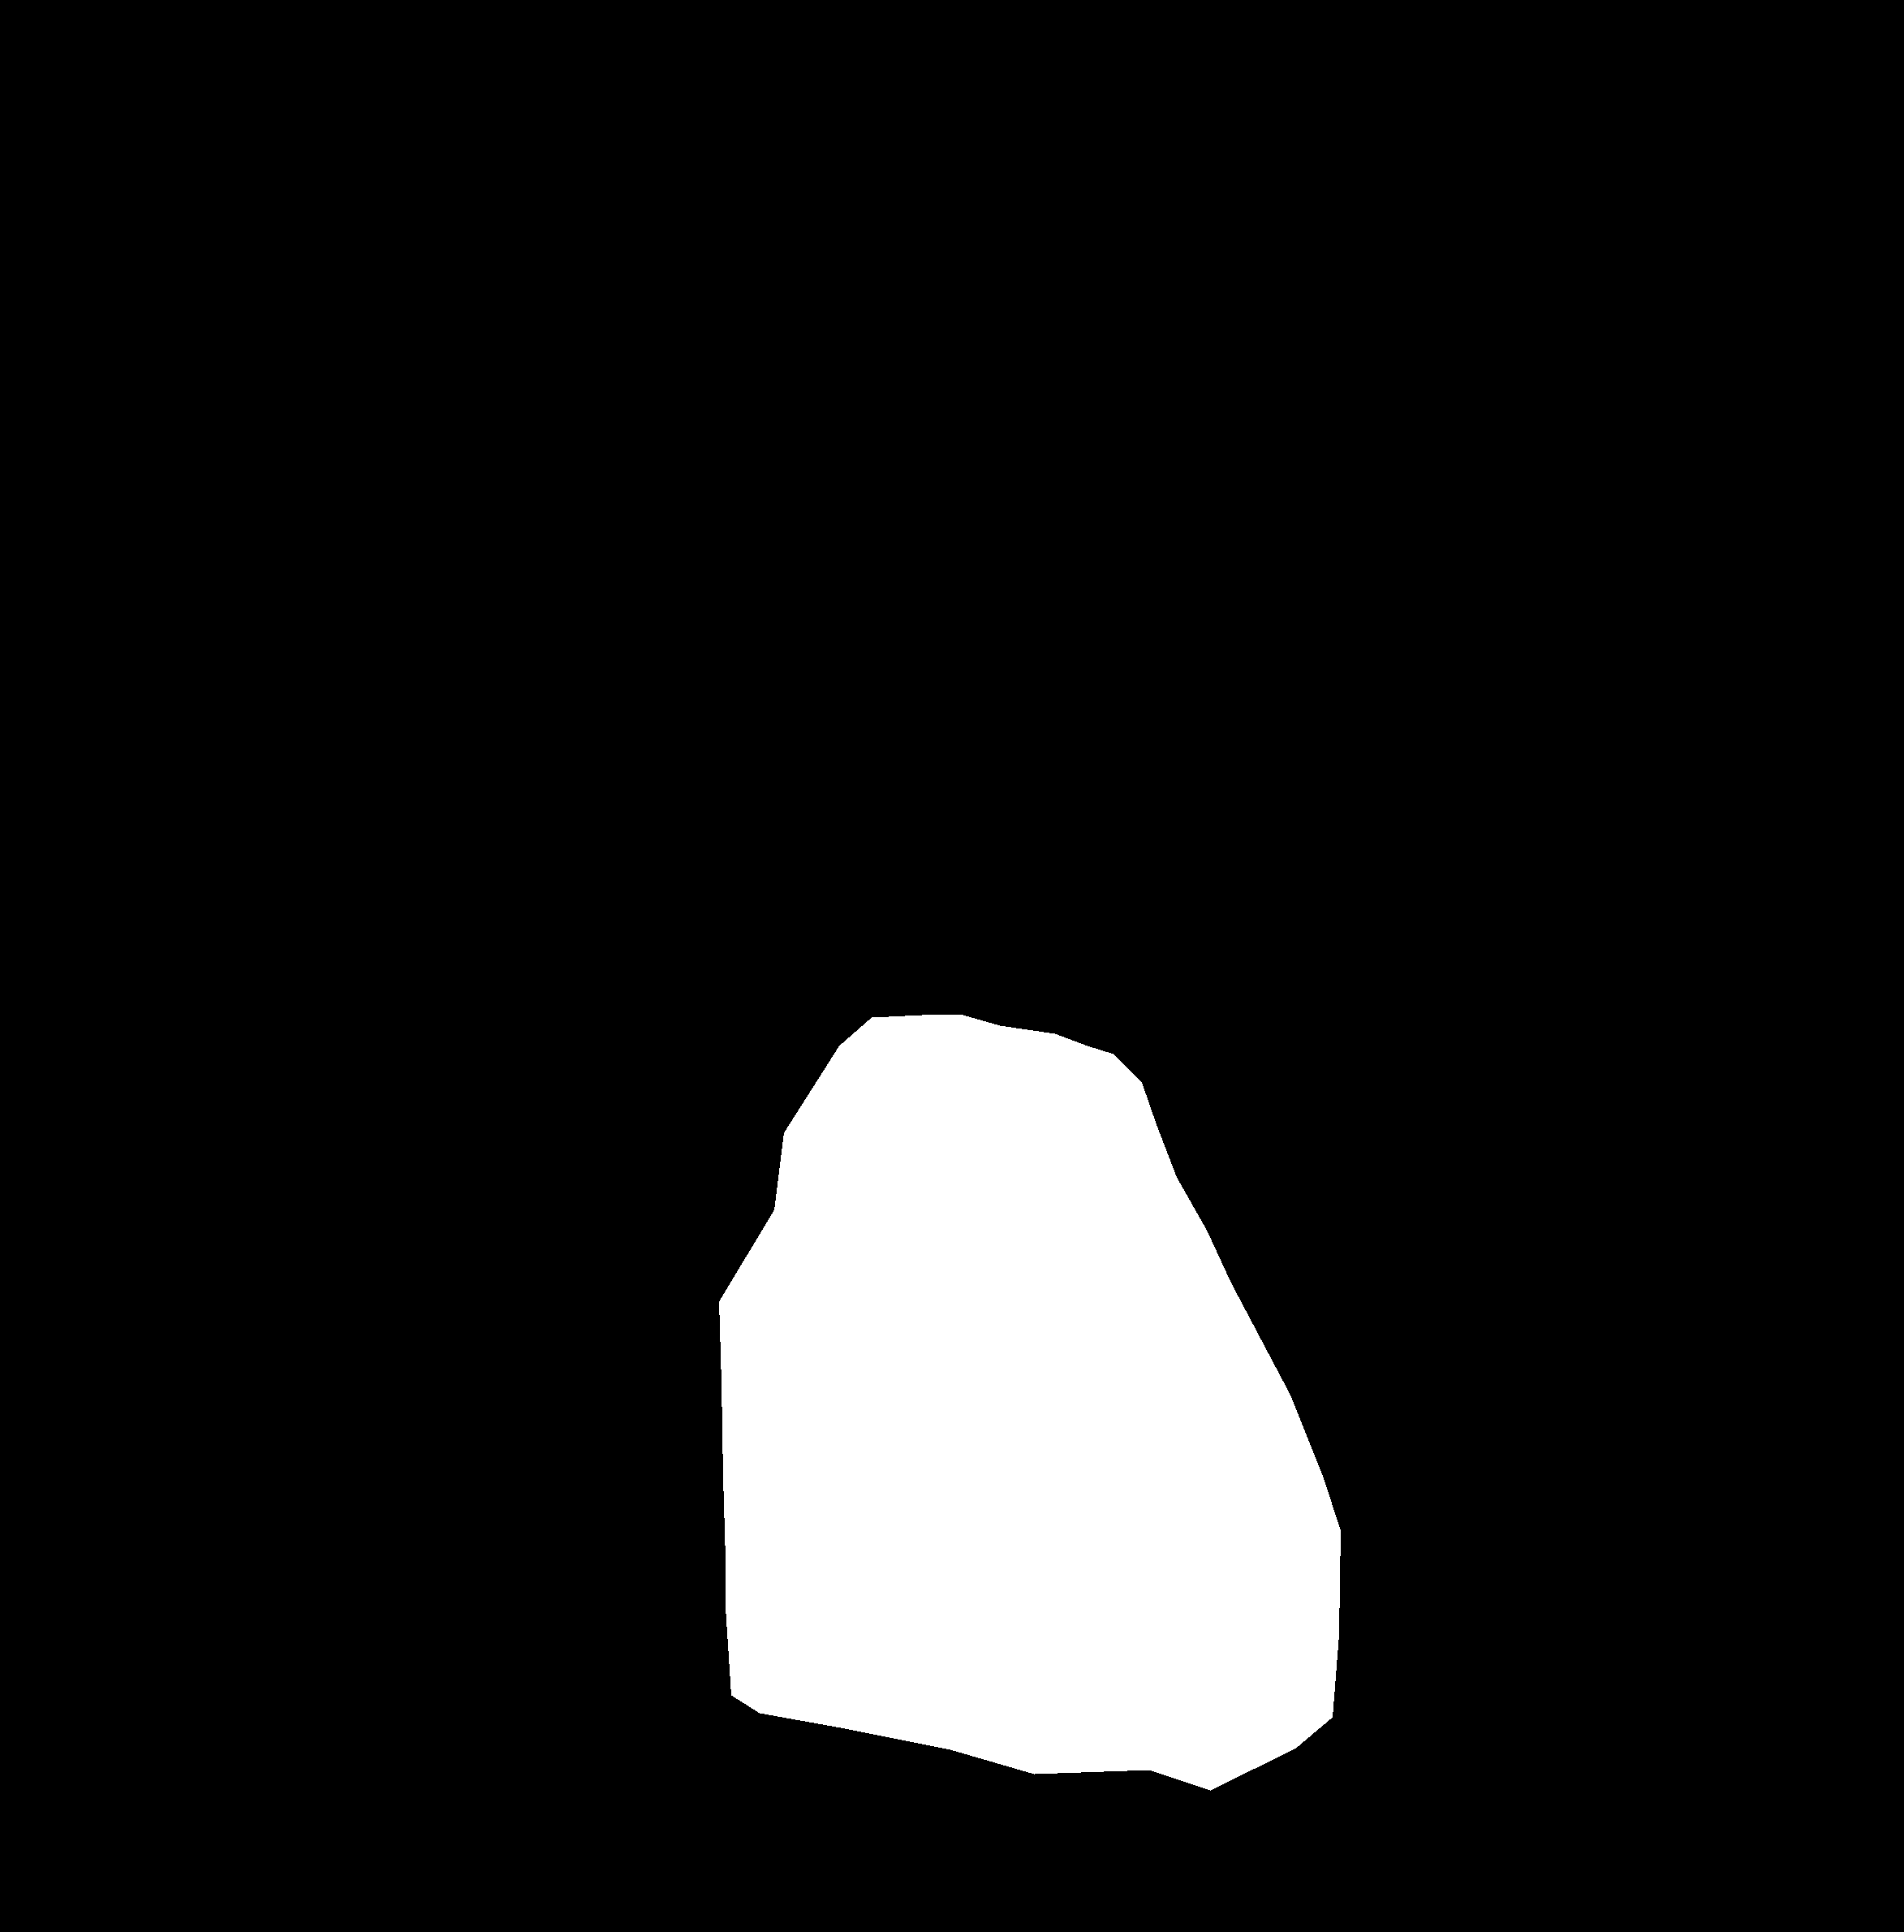heart: (718, 1015, 1339, 1791)
left_lung: (194, 242, 868, 1899)
right_lung: (982, 202, 1684, 1920)
